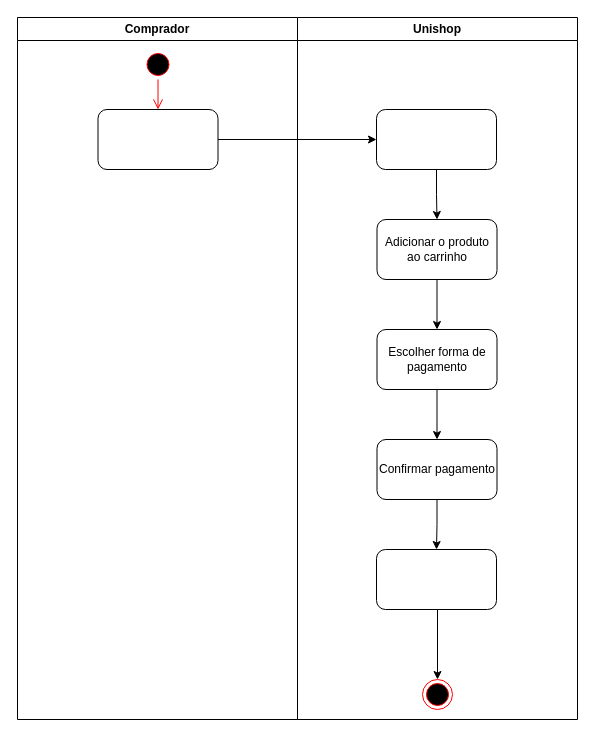
The diagram is 595 pixels wide and 737 high, and some of its shapes have lost their labels. Here are the shapes that lost their labels. From the top down, the centre of each, then its label:
pixel 157 139: Entrar no aplicativo
pixel 436 139: Escolher produtos
pixel 436 579: Escolher forma de retirada
